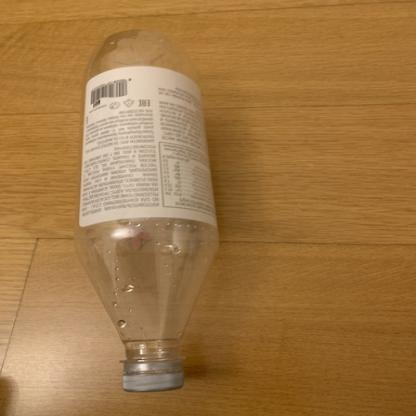trash: (81, 30, 222, 393)
